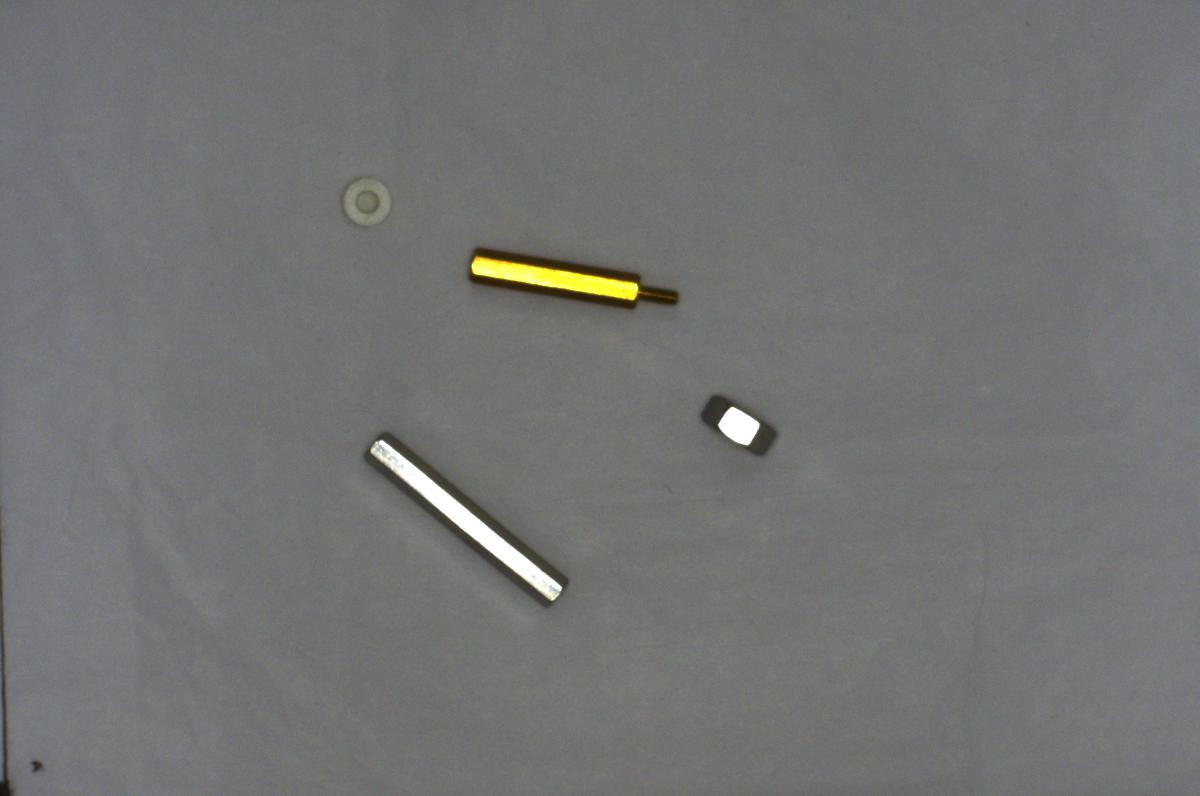Double hexagonal column: (355, 427, 573, 608)
Hexagon nut: (682, 383, 790, 466)
Hexagon pillar: (453, 239, 685, 319)
Plastic cushion pillar: (334, 172, 393, 232)
